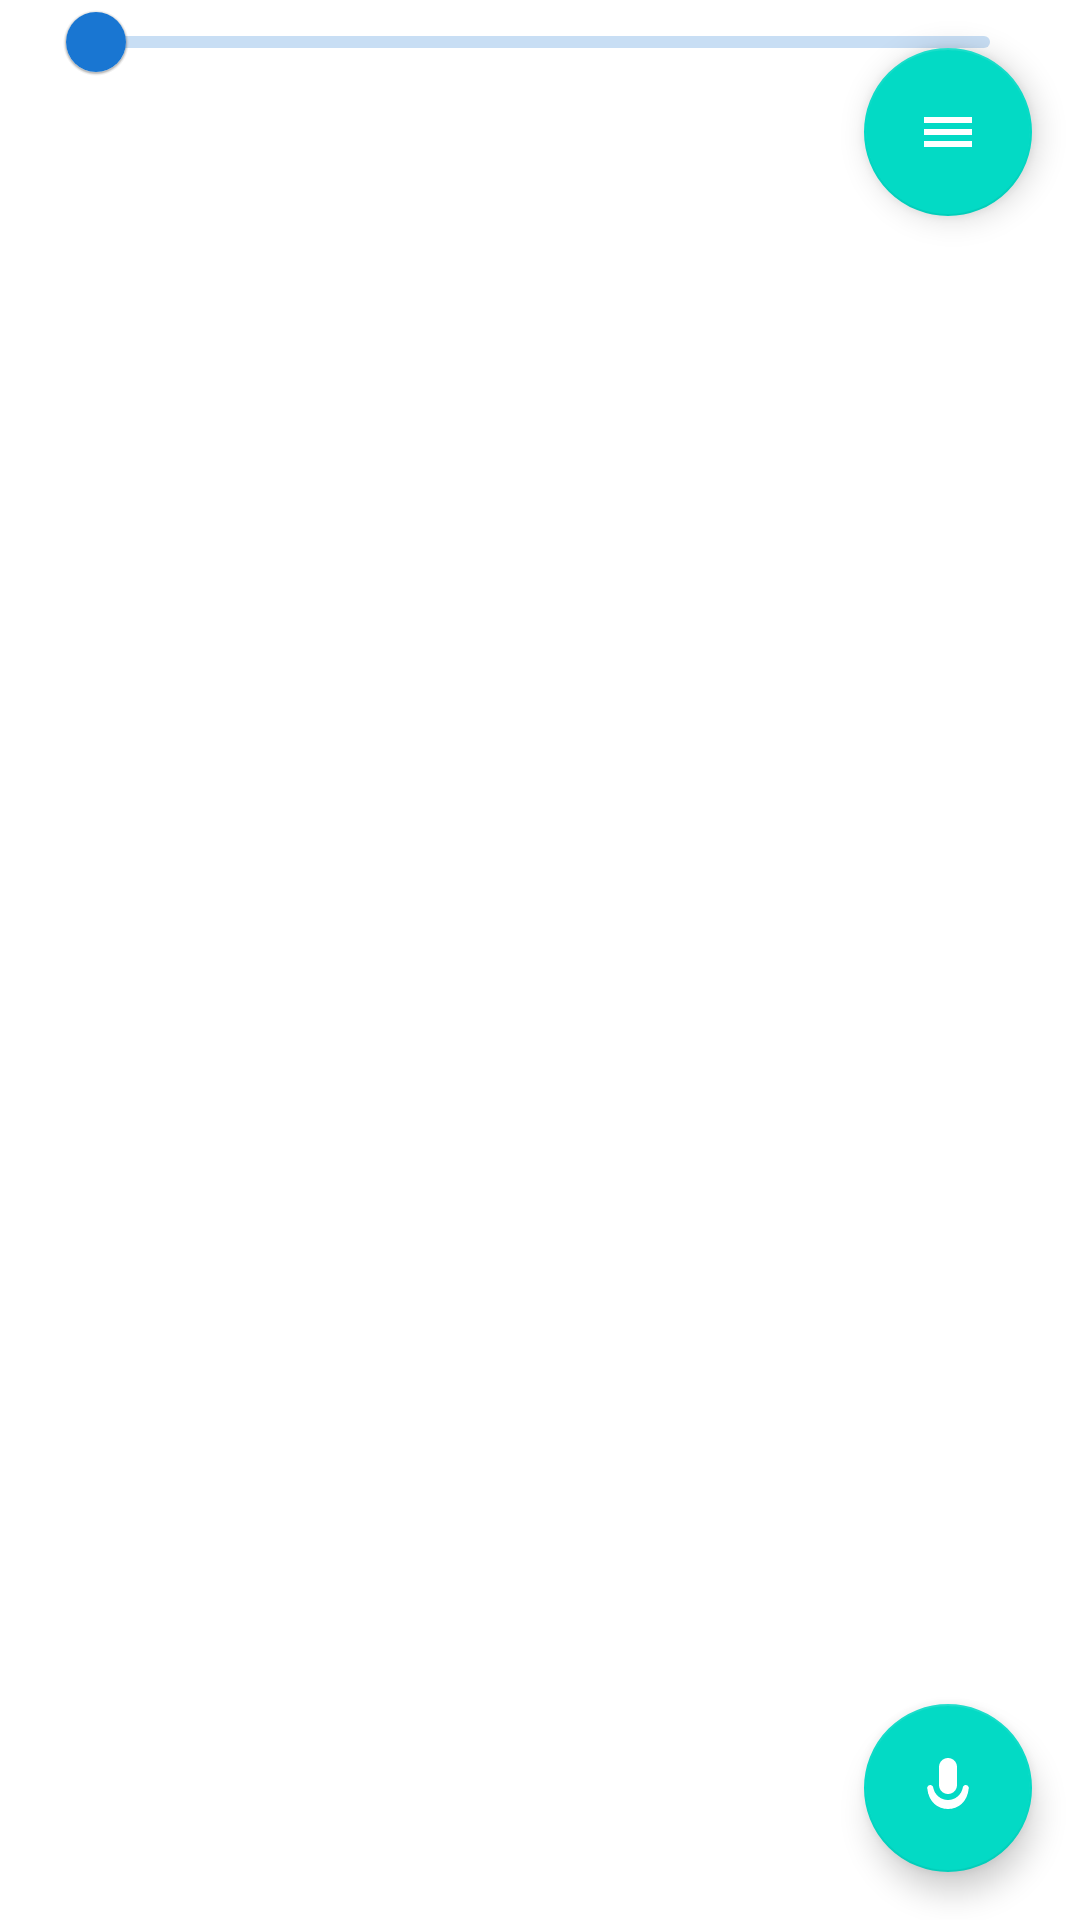

Named icons in this screenshot (1080*1920) and their bounding boxes, (x1, y1, x2, y2):
menu: (864, 48, 1032, 216)
mic: (864, 1704, 1032, 1872)
